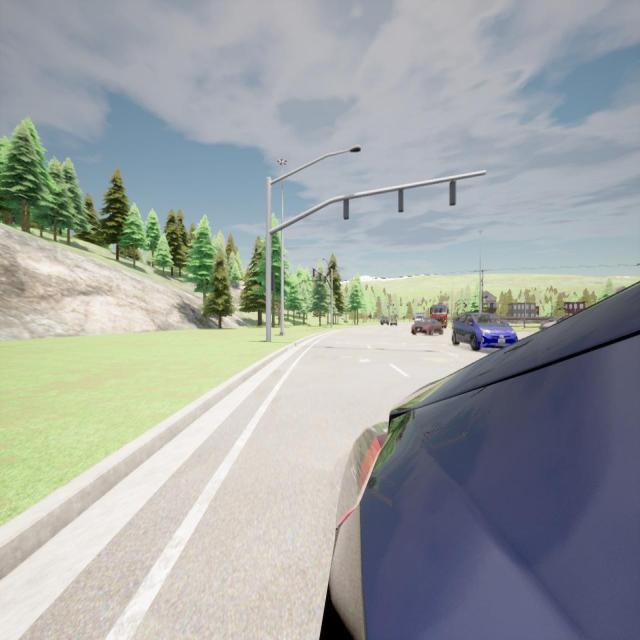Vehicle: (329, 283, 639, 637), (452, 313, 518, 350), (536, 309, 572, 327), (411, 318, 444, 335), (430, 304, 448, 328), (379, 316, 389, 326), (414, 311, 426, 318), (390, 318, 397, 326)
traffic_light: (449, 180, 456, 206), (398, 189, 404, 212), (343, 198, 349, 220), (313, 269, 315, 277), (319, 273, 321, 281), (324, 276, 326, 284)
